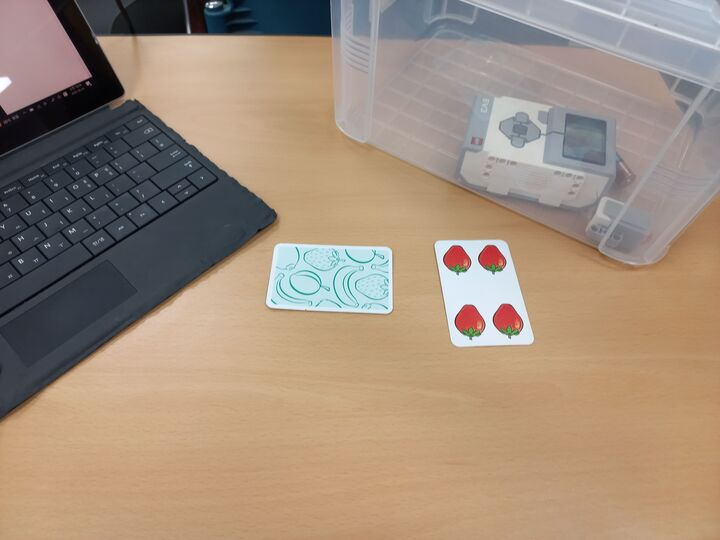strawberry4: (433, 237, 537, 350)
